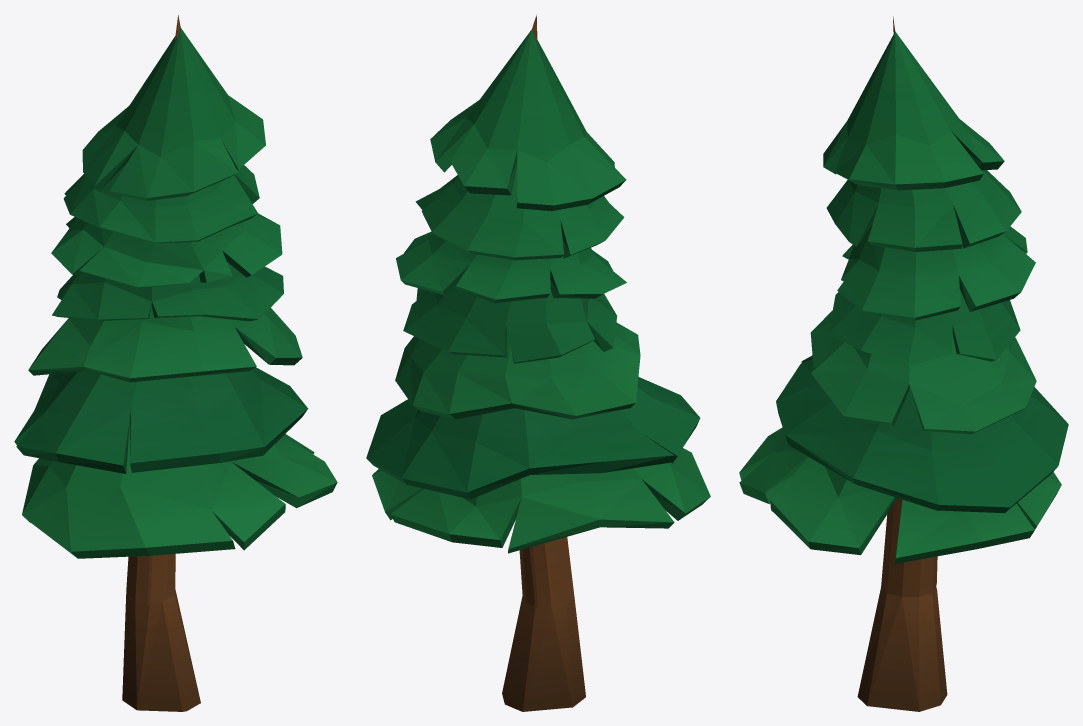
Rendered from tree_fir.glb.
3 views of the same model, side by side, from view 1: azimuth 30°, elevation 25°; view 2: azimuth 150°, elevation 25°; view 3: azimuth 270°, elevation 25° (orthographic).
Visible parts, largest first — view 1: tree_fir; view 2: tree_fir; view 3: tree_fir.
Boxes of the visible parts, x1,y1,x2,y2 form: tree_fir: [14, 15, 337, 711]; tree_fir: [366, 15, 710, 711]; tree_fir: [739, 16, 1068, 711].
Size of the model in its own units: 1.87 by 4.2 by 1.83.
1 material, 1 textured.
